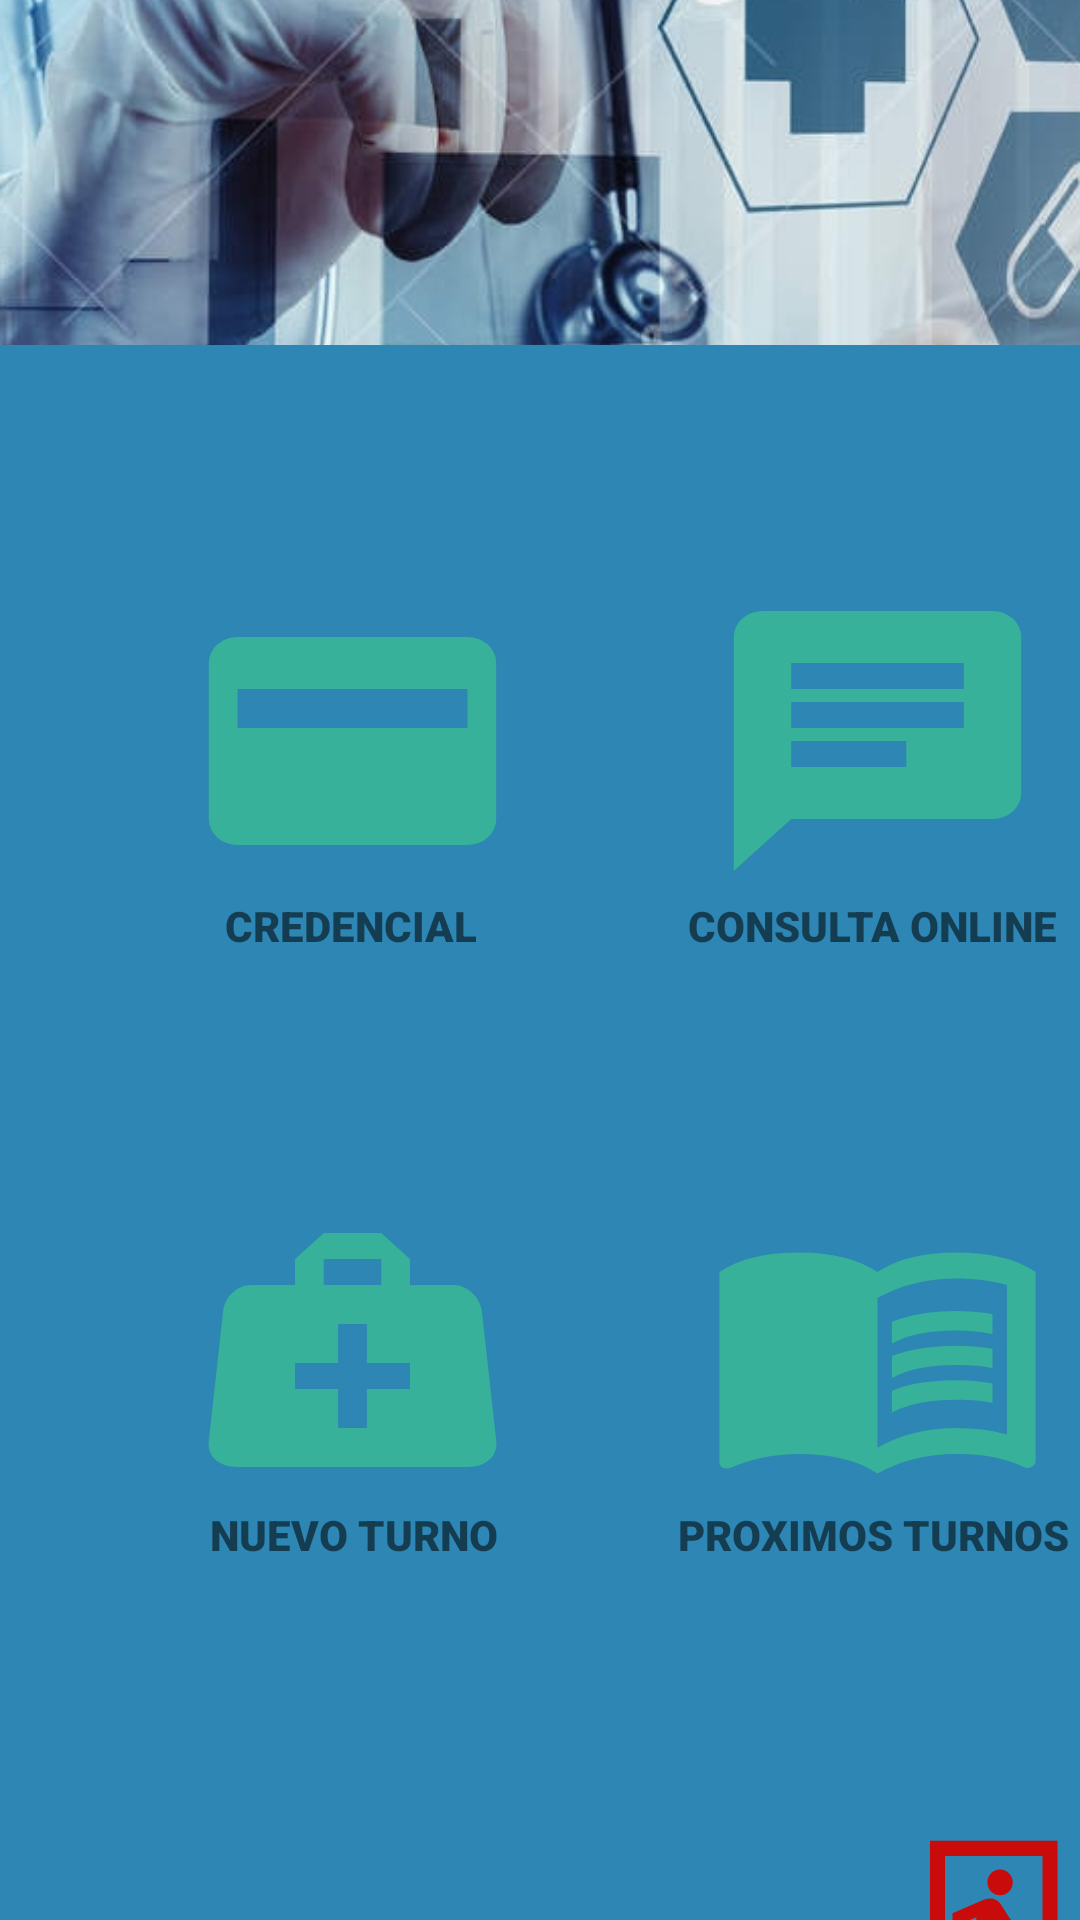

Icon bounding boxes for this 1080px x 1920px phone screenshot, format (x1, y1, x2, y2):
historial turnos: (719, 1253, 1036, 1473)
